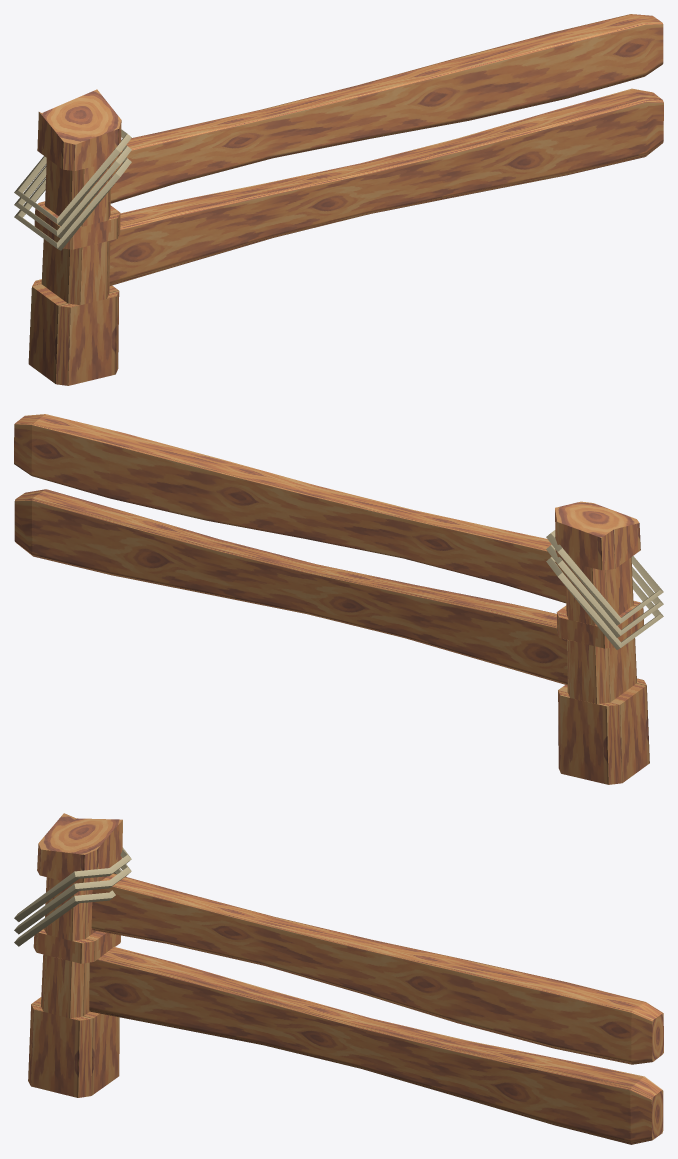
File: fence_w_300_b.glb
3 renders of one model, top to bottom at view 1: azimuth 30°, elevation 25°; view 2: azimuth 150°, elevation 25°; view 3: azimuth 330°, elevation 25°, orthographic.
Visible parts, largest first — view 1: fence_w_300_b; view 2: fence_w_300_b; view 3: fence_w_300_b.
Part boxes in pixels (x1,y1,x2,y2): fence_w_300_b: (14,14,663,385); fence_w_300_b: (14,414,663,784); fence_w_300_b: (14,813,663,1144).
Size of the model in its own units: 3.2 by 1.27 by 0.3989.
1 material, 1 textured.
